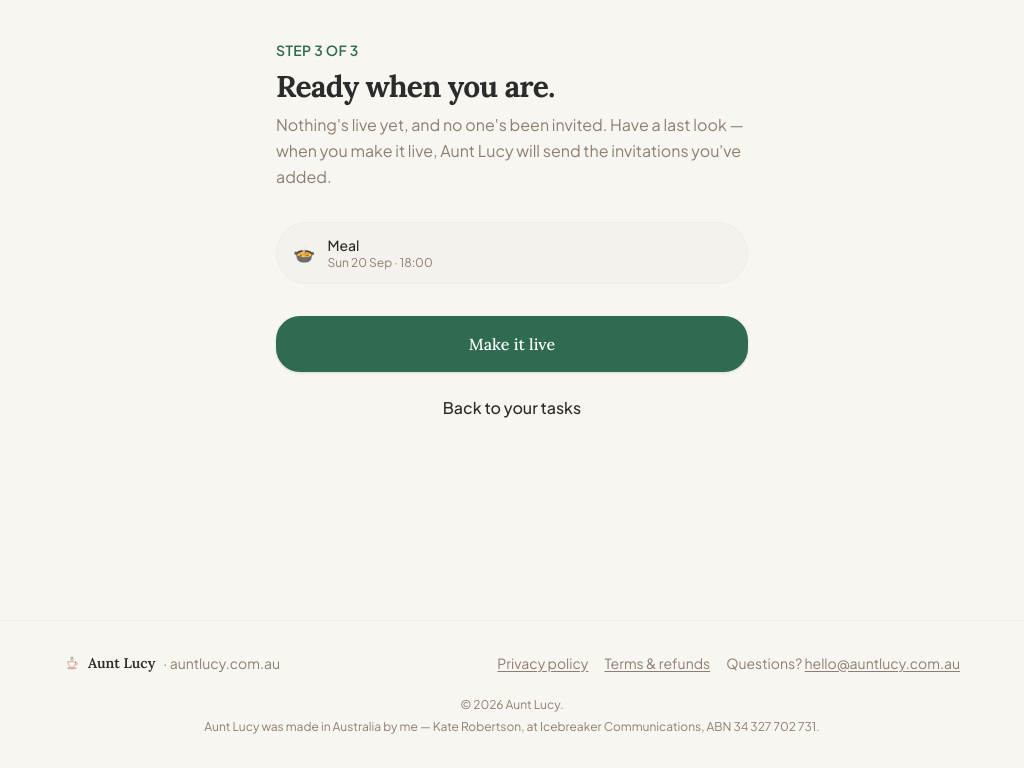
Test: step 3 says invitations will send — only when some are waiting › with invitations waiting: the body and the confirm both say making it live sends them
Expected: the text "Nothing's live yet, and no one's been invited. Have a last look — when you make it live, Aunt Lucy will send the invitat" is shown, top-left (276, 114), bottom-right (744, 187)
Click the button "Make it live" at (512, 344), box top-left (276, 316), bottom-right (748, 372)
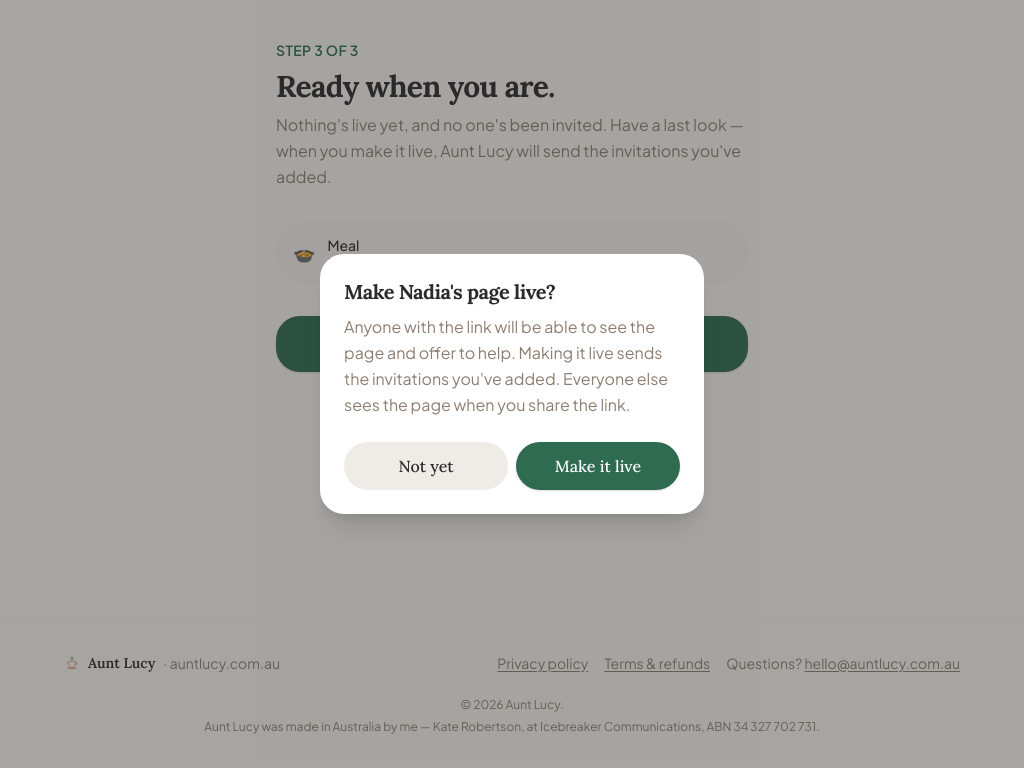
Expected: the text "Anyone with the link will be able to see the page and offer to help. Making it live sends the invitations you've added. " is shown, top-left (344, 316), bottom-right (668, 415)
